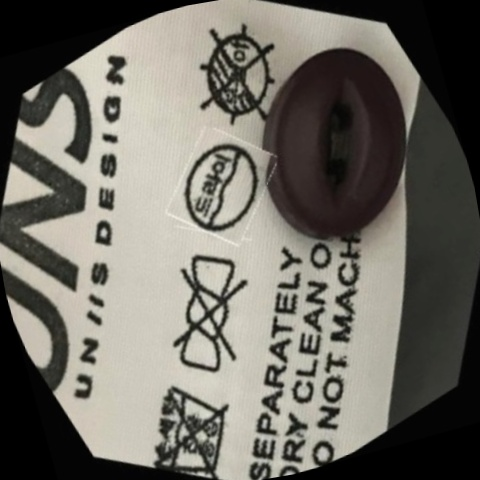DN_dry: (163, 0, 313, 151)
DN_wring: (126, 231, 295, 400)
dry_clean: (154, 118, 291, 256)
hand_wash: (117, 351, 262, 480)
